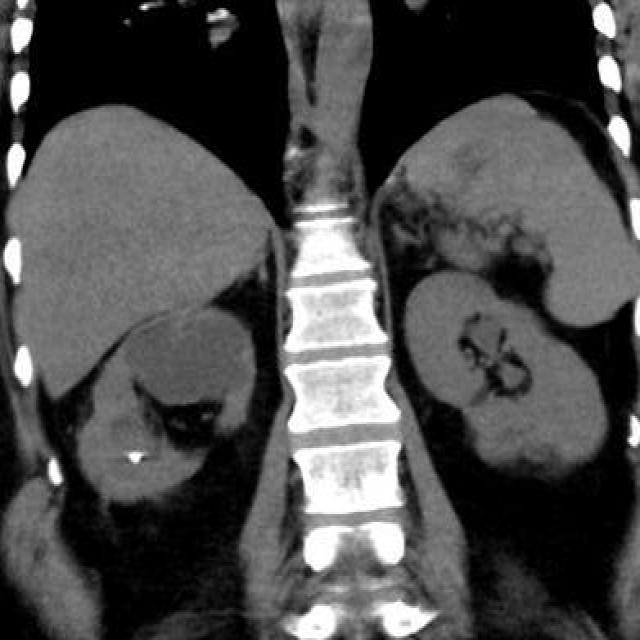Tas_Var: (122, 438, 146, 474)
